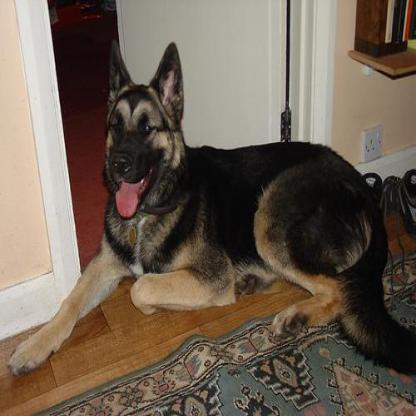German_shepherd: (7, 38, 414, 379)
